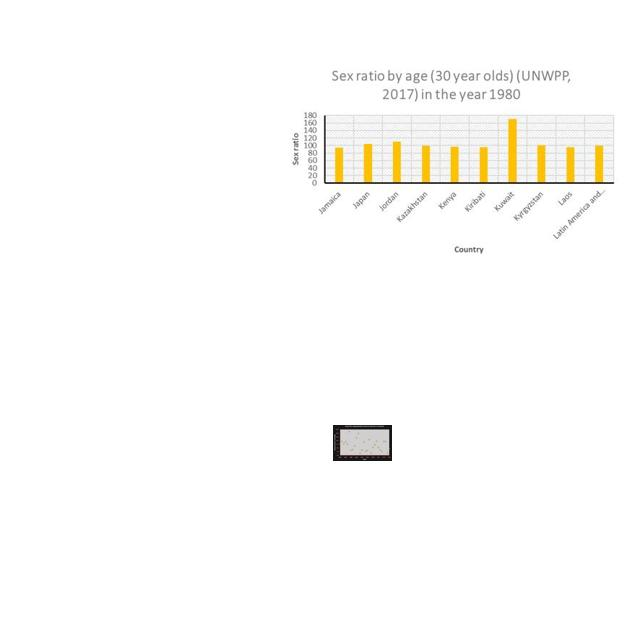Graph: (284, 63, 619, 259), (333, 425, 392, 461)
